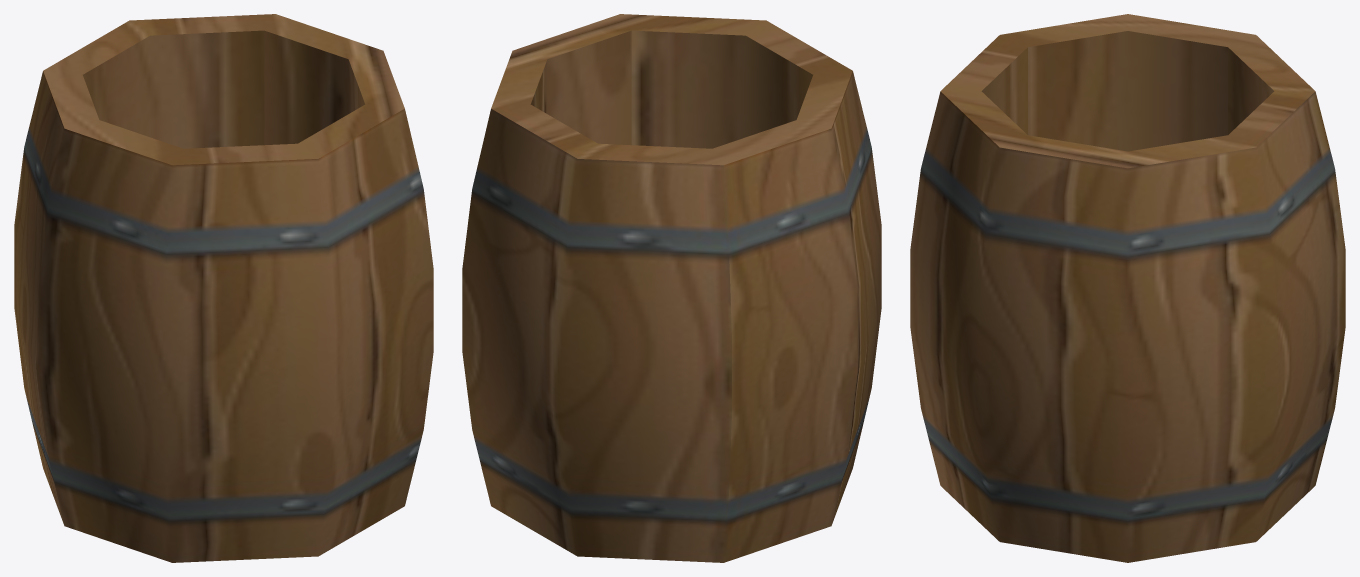
3 views of the same model, side by side, from view 1: azimuth 30°, elevation 25°; view 2: azimuth 150°, elevation 25°; view 3: azimuth 270°, elevation 25° (orthographic).
Visible parts, largest first — view 1: defaultMaterial.036; view 2: defaultMaterial.036; view 3: defaultMaterial.036.
Boxes of the visible parts, x1,y1,x2,y2 form: defaultMaterial.036: [14, 14, 433, 562]; defaultMaterial.036: [462, 14, 881, 562]; defaultMaterial.036: [910, 14, 1345, 562].
Bounding box in the file's own units: 81.35 × 83.55 × 83.49.
Materials: 1 (1 with a texture image).
